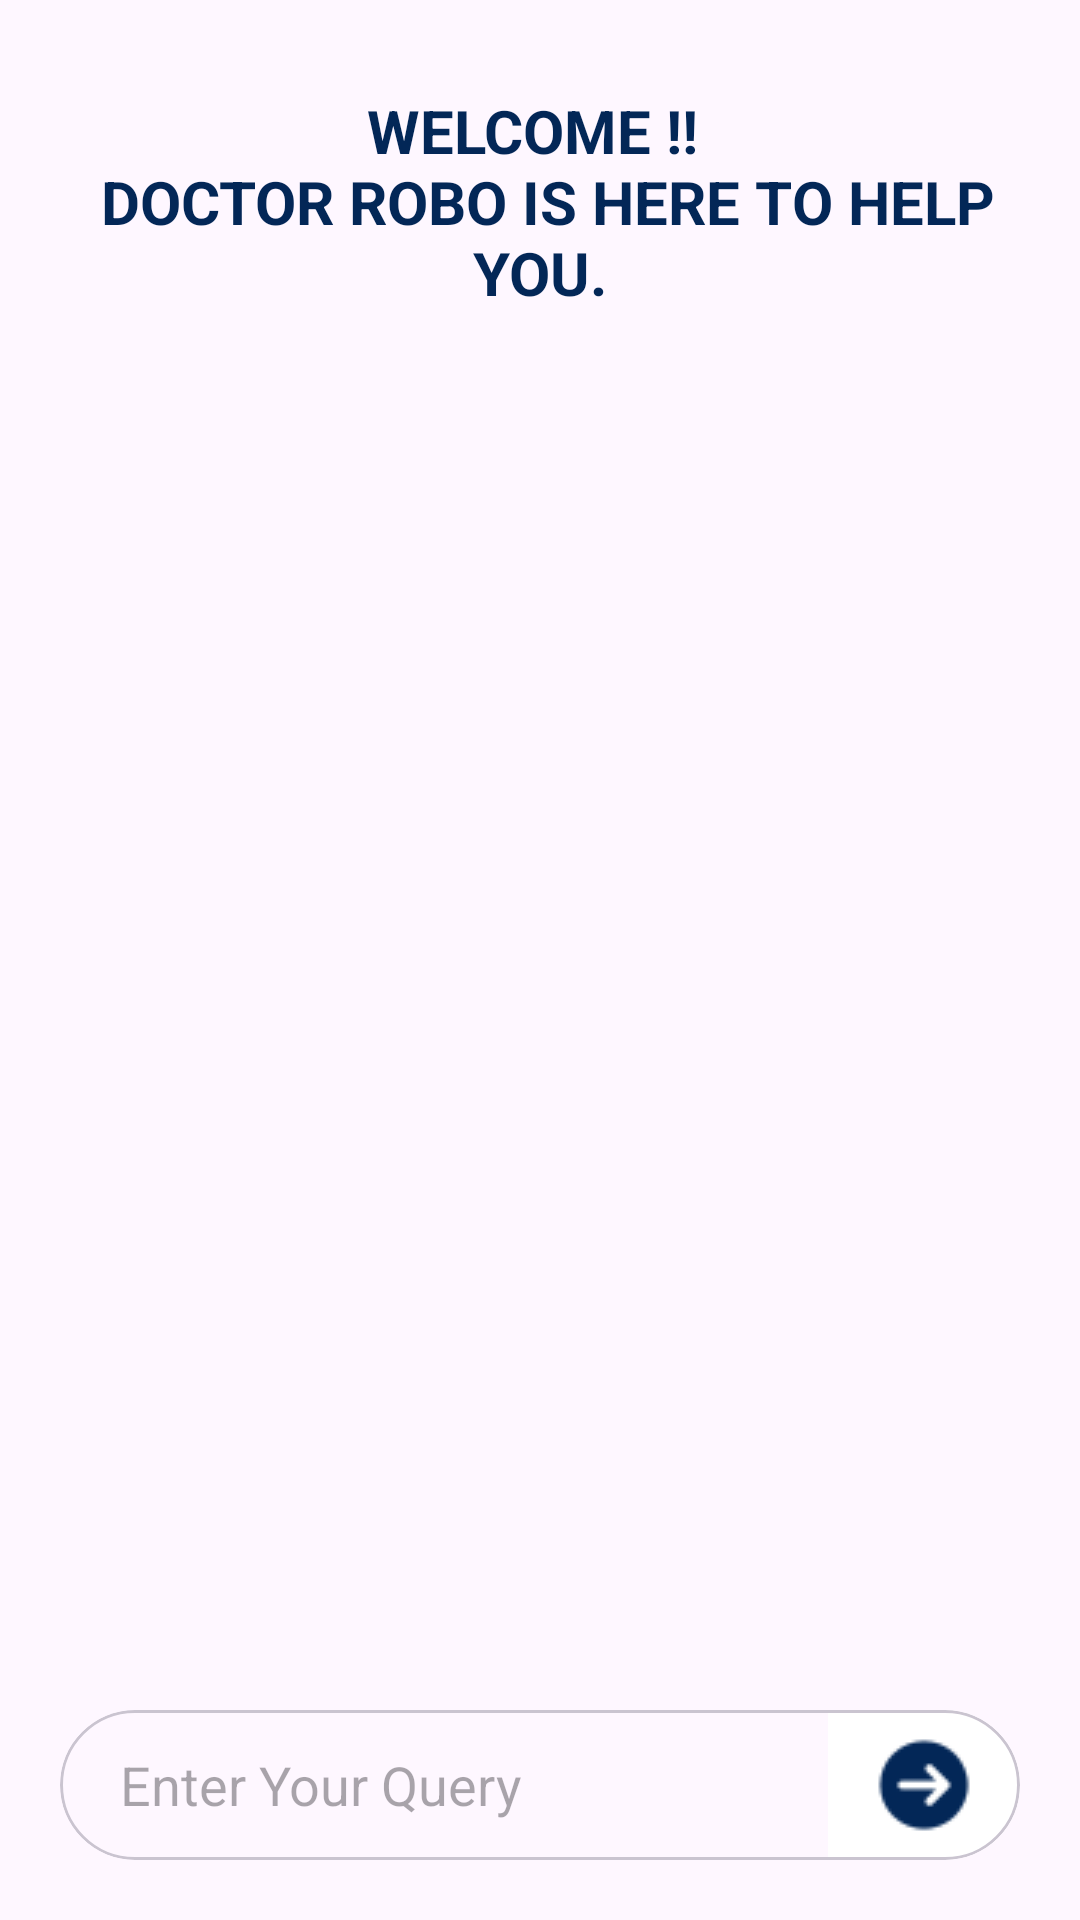

Where to tap for icons on this 1080 × 1920 app screen, as point (x, y):
forward: point (924, 1785)
